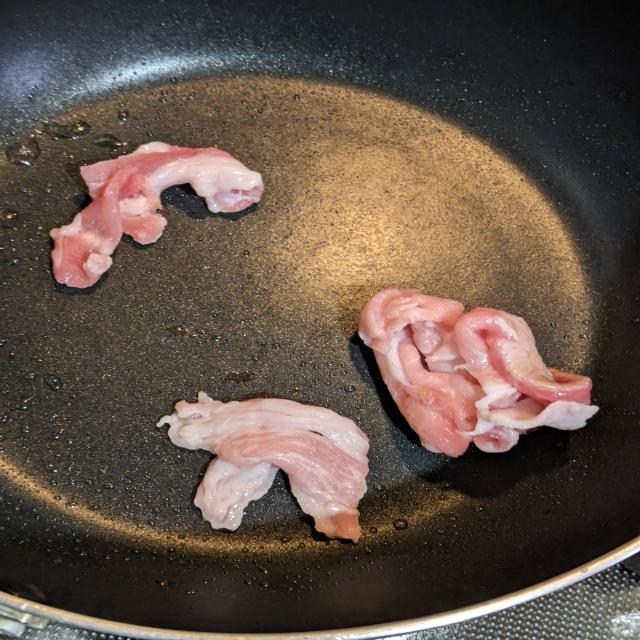NG raw pork,: (351, 282, 605, 461), (149, 388, 377, 545), (42, 138, 272, 292)
